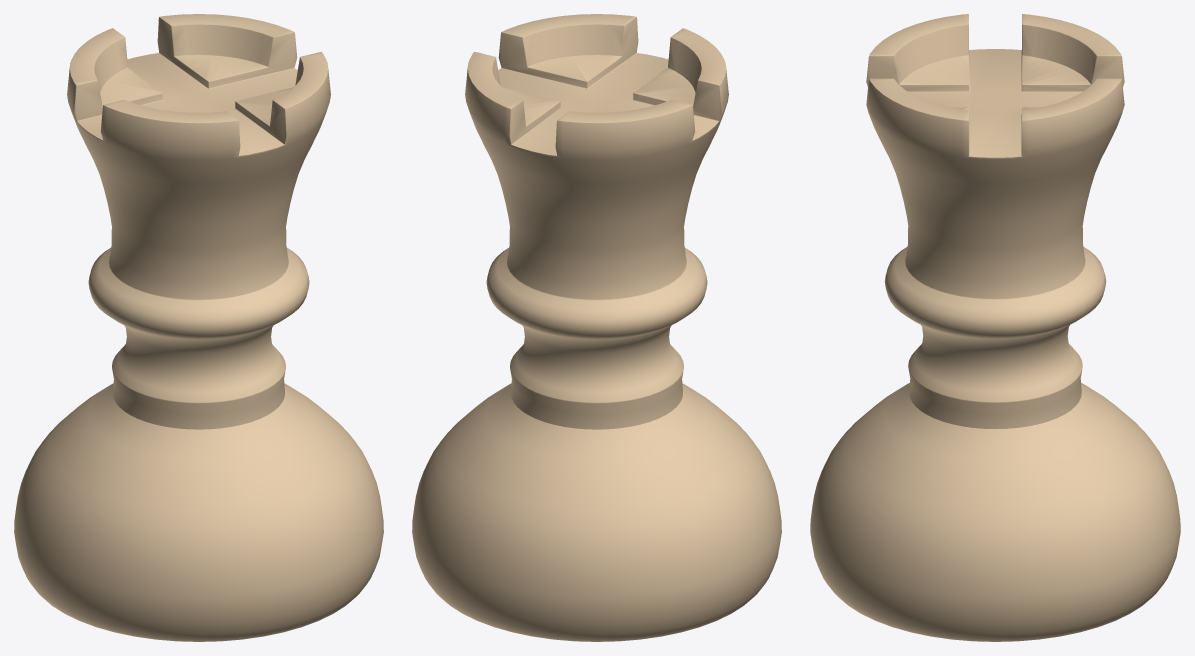
File: white-rook.glb
The picture shows the model from 3 angles, left to right: view 1: azimuth 30°, elevation 25°; view 2: azimuth 150°, elevation 25°; view 3: azimuth 270°, elevation 25°; orthographic projection.
Visible parts, largest first — view 1: white-rook.001; view 2: white-rook.001; view 3: white-rook.001.
Part boxes in pixels (x1=…): white-rook.001: x1=14, y1=14, x2=383, y2=641; white-rook.001: x1=412, y1=14, x2=781, y2=641; white-rook.001: x1=810, y1=14, x2=1180, y2=641.
Bounding box in the file's own units: 0.7004 × 1.05 × 0.7004.
